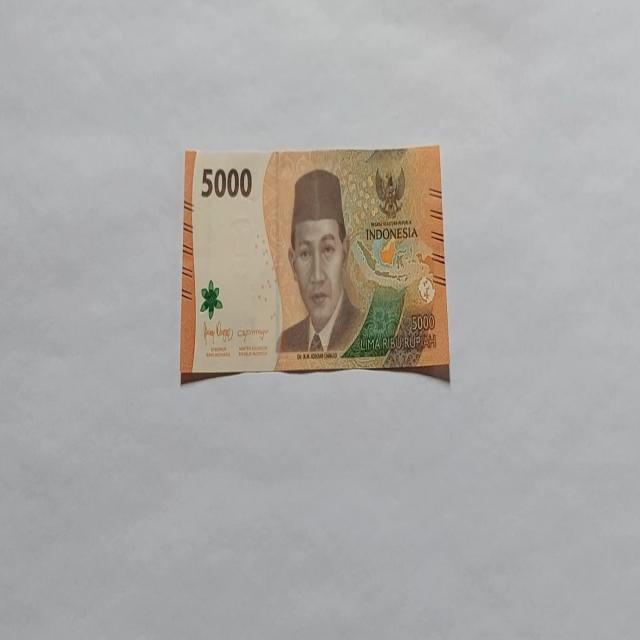lima ribu rupiah: (180, 144, 450, 384), (274, 167, 364, 356)
